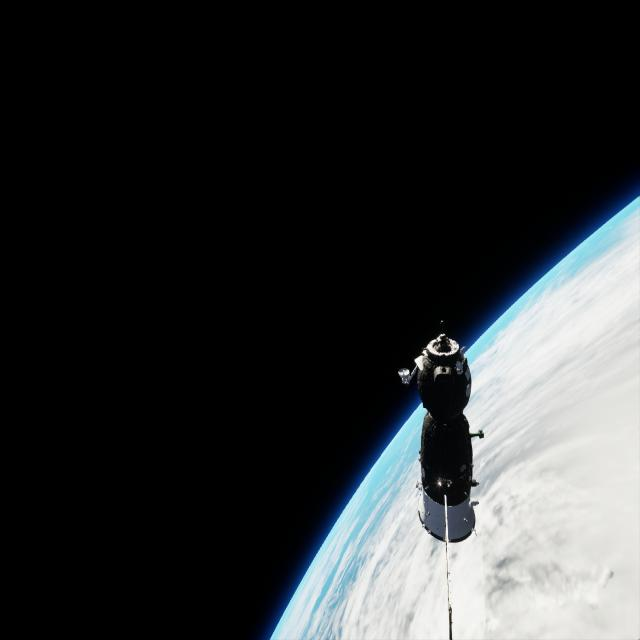Satellites revolving around earth: (268, 194, 638, 638)
